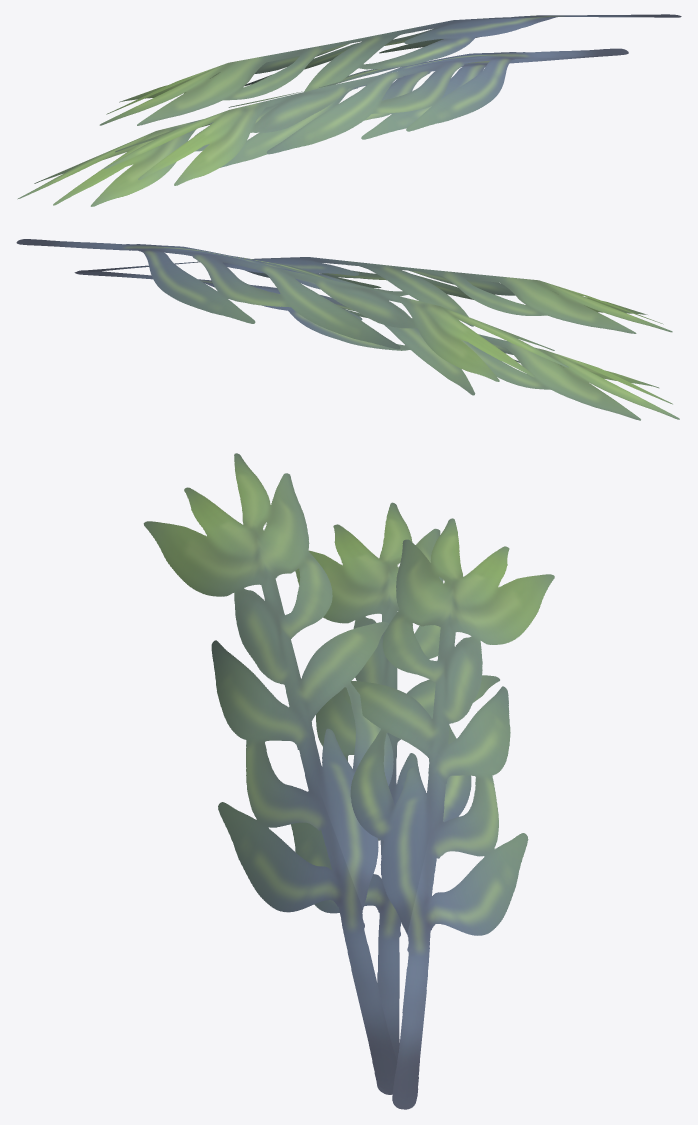
Rendered from SM_Potion_Props_Herb_02.fbx.
3 views of the same model, one above another, from view 1: azimuth 30°, elevation 25°; view 2: azimuth 150°, elevation 25°; view 3: azimuth 270°, elevation 25° (orthographic). The views are drawn at different scales.
Visible parts, largest first — view 1: SM_Potion_Props_Herb_02_LOD0; view 2: SM_Potion_Props_Herb_02_LOD0; view 3: SM_Potion_Props_Herb_02_LOD0.
Boxes of the visible parts, bbox=[...] form: SM_Potion_Props_Herb_02_LOD0: bbox=[17, 14, 681, 206]; SM_Potion_Props_Herb_02_LOD0: bbox=[16, 239, 679, 420]; SM_Potion_Props_Herb_02_LOD0: bbox=[143, 453, 554, 1109].
Size of what is drawn, in the model's own units: 38.08 by 3.99 by 10.42.
